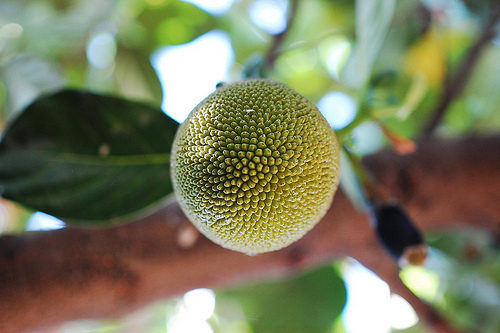jackfruit: (169, 80, 341, 255)
